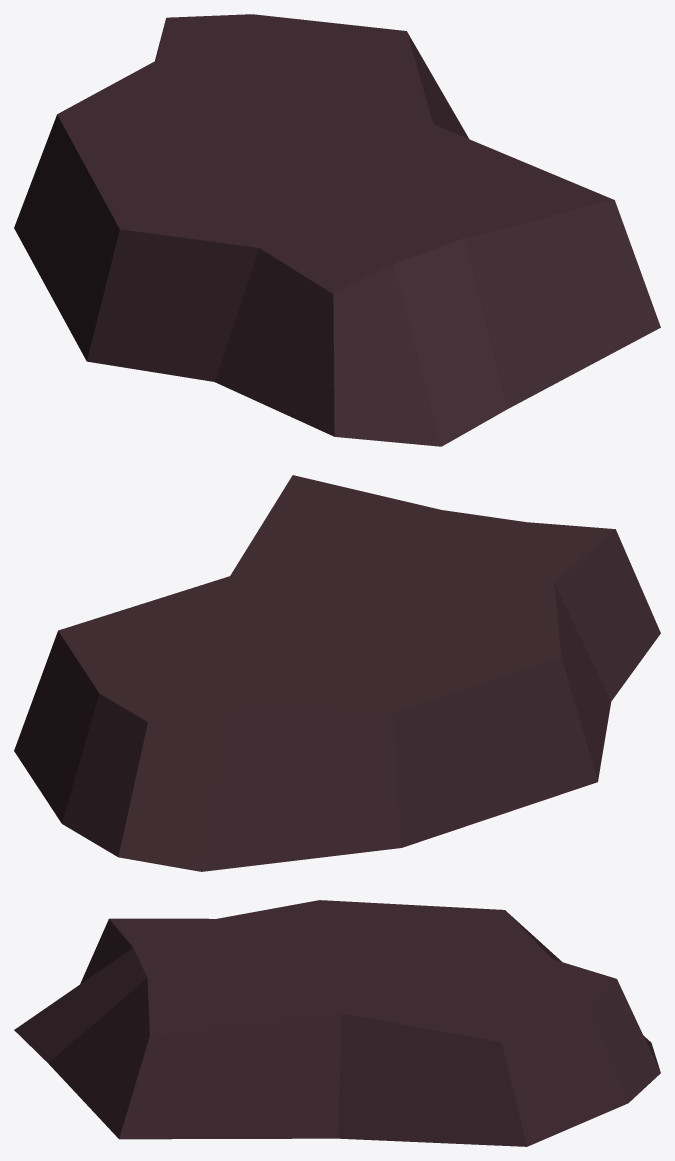
Rendered from rock-3.fbx.
The picture shows the model from 3 angles, top to bottom: view 1: azimuth 30°, elevation 25°; view 2: azimuth 150°, elevation 25°; view 3: azimuth 270°, elevation 25°; orthographic projection. The views are drawn at different scales.
Visible parts, largest first — view 1: Rock 1; view 2: Rock 1; view 3: Rock 1.
Part boxes in pixels (left/top/right/bottom): Rock 1: left=14, top=14, right=660, bottom=446; Rock 1: left=14, top=475, right=660, bottom=871; Rock 1: left=14, top=900, right=660, bottom=1146.
Bounding box in the file's own units: 589 × 164 × 903.
